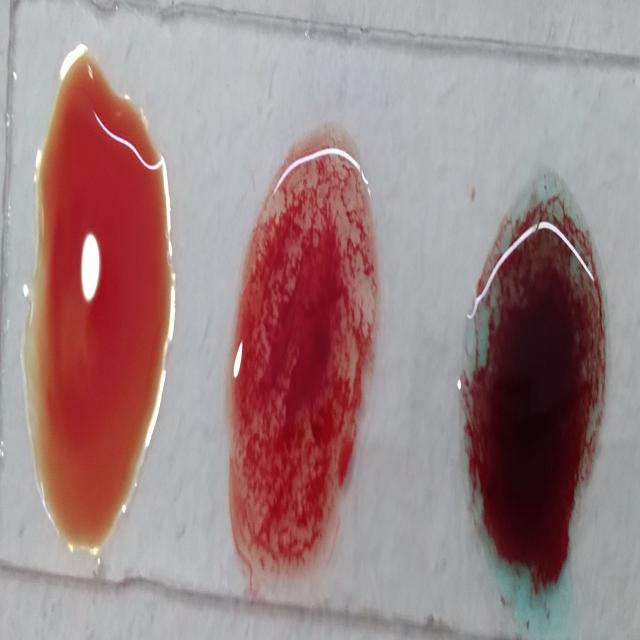A: (457, 152, 608, 628)
D: (234, 151, 380, 584)
